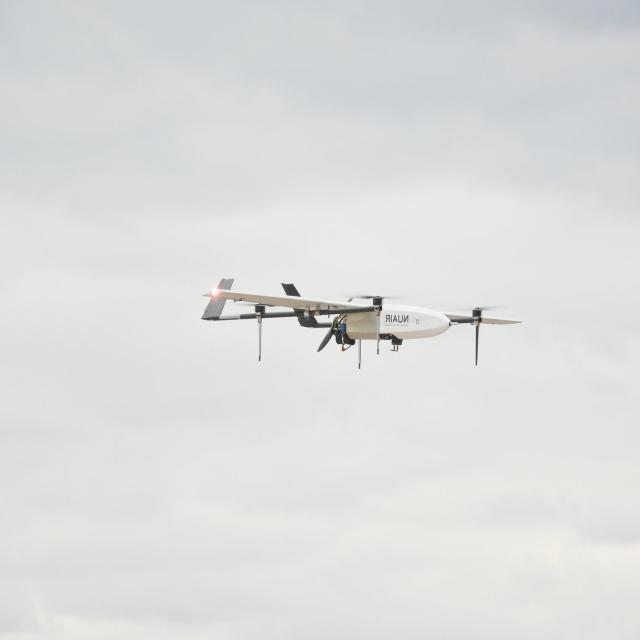iha: (199, 303, 524, 335)
